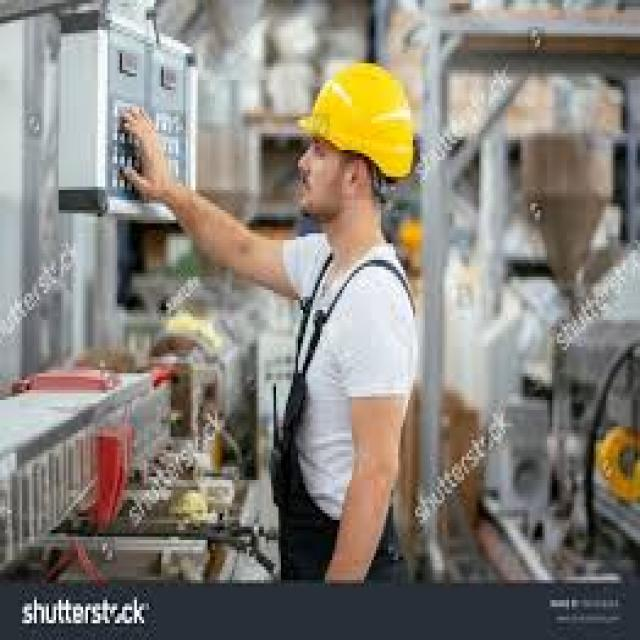Safety-Helmet: (291, 53, 432, 197)
